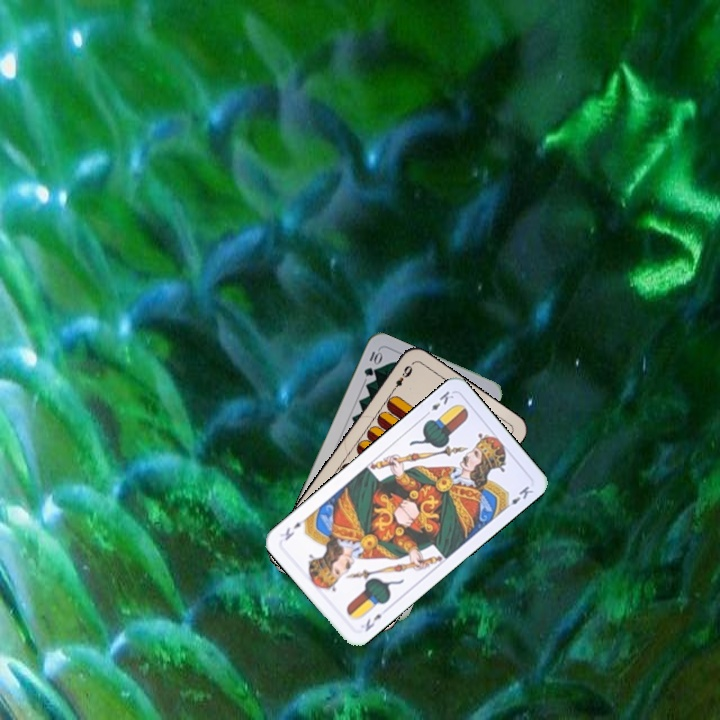E9: (387, 360, 416, 395)
EK: (420, 387, 456, 419), (361, 610, 384, 634)
G10: (360, 347, 384, 379)
